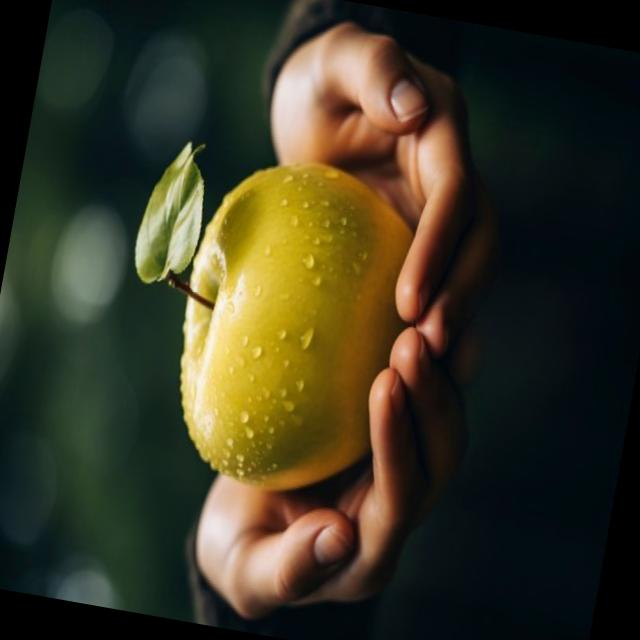apple_fruit: (161, 120, 432, 504)
